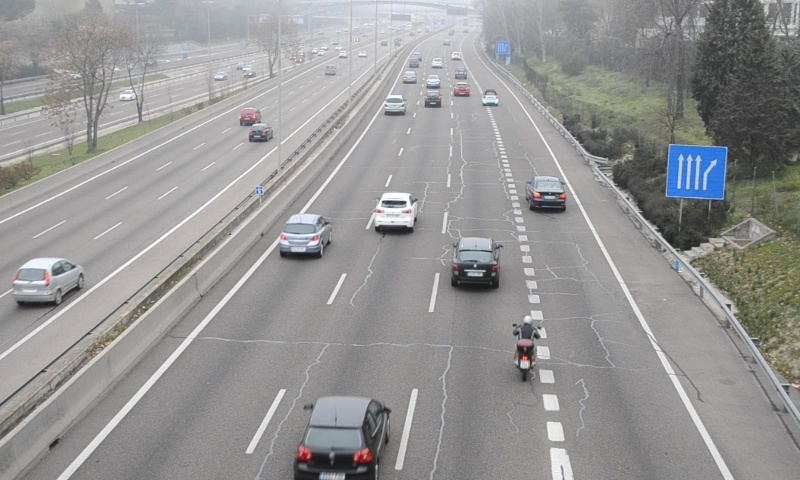car: (292, 396, 389, 480), (451, 236, 498, 286), (278, 213, 332, 255), (374, 192, 416, 232), (527, 175, 566, 211), (383, 94, 407, 116), (453, 80, 472, 97), (424, 89, 441, 108), (481, 88, 498, 106)
motorcycle: (511, 316, 543, 384)
